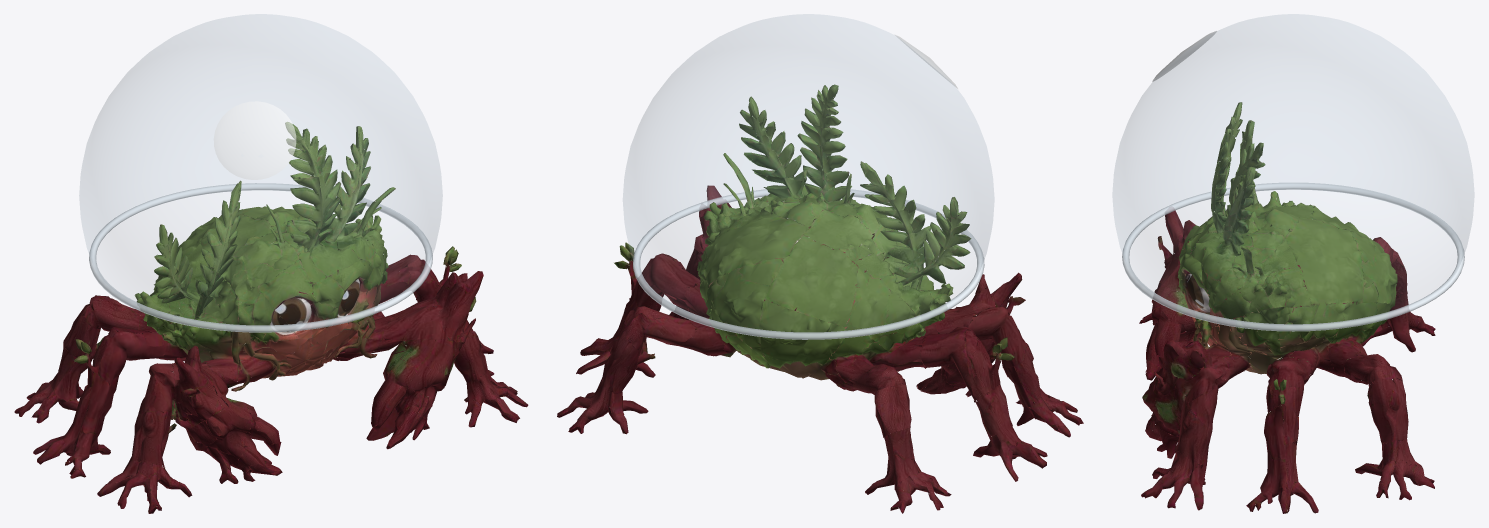
3 renders of one model, left to right at view 1: azimuth 30°, elevation 25°; view 2: azimuth 150°, elevation 25°; view 3: azimuth 270°, elevation 25°, orthographic. The views are drawn at different scales.
Parts seen in each view (by area): view 1: Mesh_0, glass_shell, glass_rim, glass_glint; view 2: Mesh_0, glass_shell, glass_rim; view 3: Mesh_0, glass_shell, glass_rim, glass_glint.
Boxes of the visible parts, x1,y1,x2,y2 form: Mesh_0: (14,122,528,513); glass_shell: (79,14,442,264); glass_rim: (89,183,432,332); glass_glint: (213,101,296,179); Mesh_0: (557,84,1083,513); glass_shell: (623,14,994,269); glass_rim: (633,187,984,339); Mesh_0: (1139,102,1435,513); glass_shell: (1112,14,1474,262); glass_rim: (1122,182,1464,331); glass_glint: (1152,31,1216,81).
Size of the model in its own units: 1.9 by 1.52 by 1.31.
Materials: 4 (1 with a texture image).
